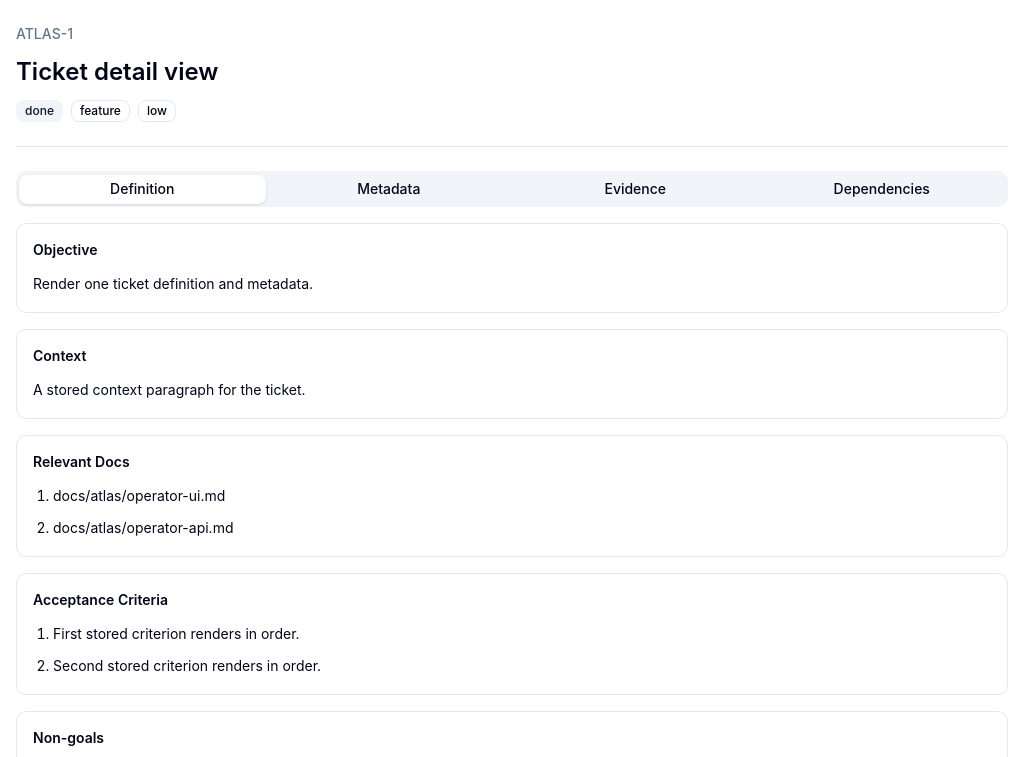
Scenario: ticket detail view rendering › renders metadata fields, source anchor, external IDs, and null empties
Press the mouse on the tab "Metadata" at (389, 189), box top-left (266, 174), bottom-right (512, 204)
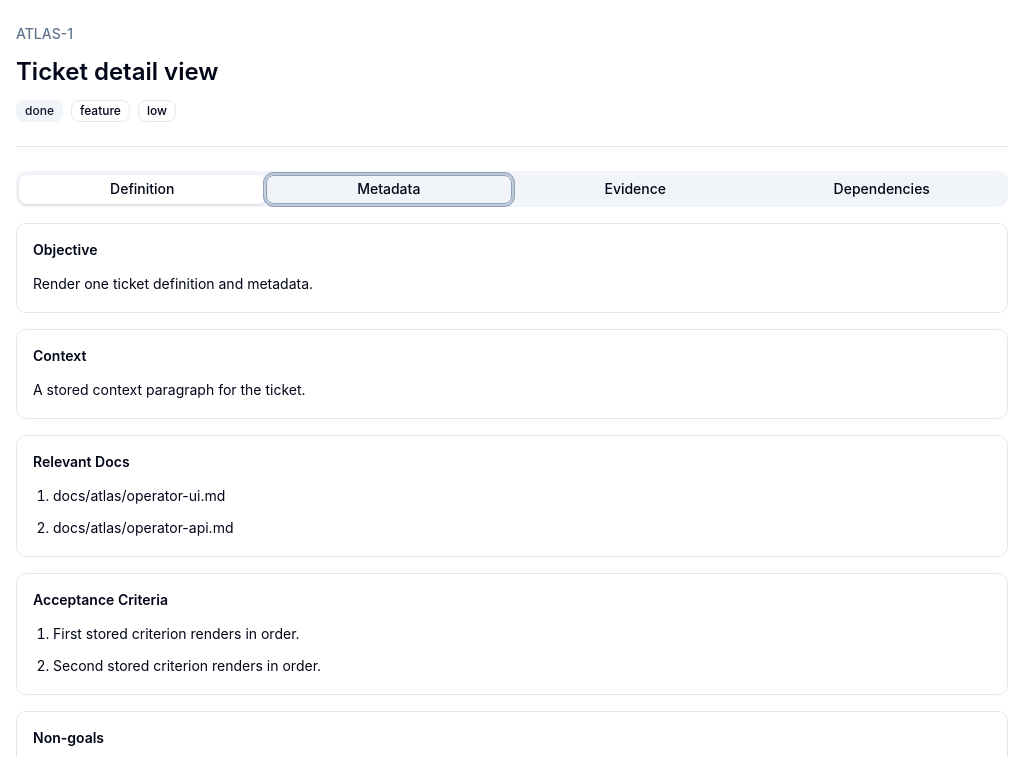
Click the tab "Metadata".
click(389, 189)  # box top-left (266, 174), bottom-right (512, 204)
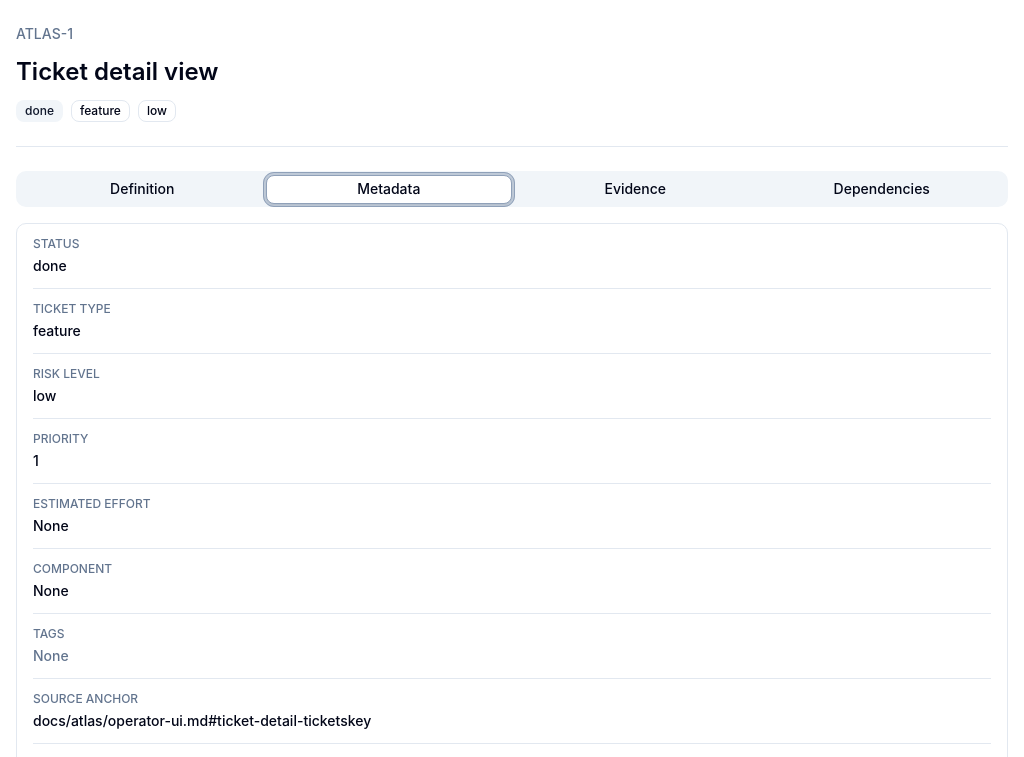
Check: the text "done" below "Ticket detail view" is shown, box top-left (25, 103), bottom-right (54, 118)
Check: the text "docs/atlas/operator-ui.md#ticket-detail-ticketskey" is shown, box top-left (33, 712), bottom-right (371, 729)
Check: the text "None" below "Estimated Effort" is shown, box top-left (33, 517), bottom-right (69, 534)
